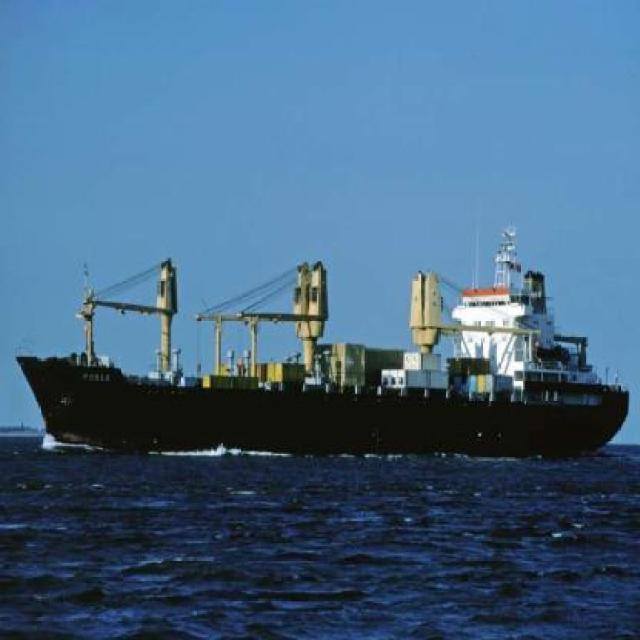ship: (11, 241, 631, 445)
